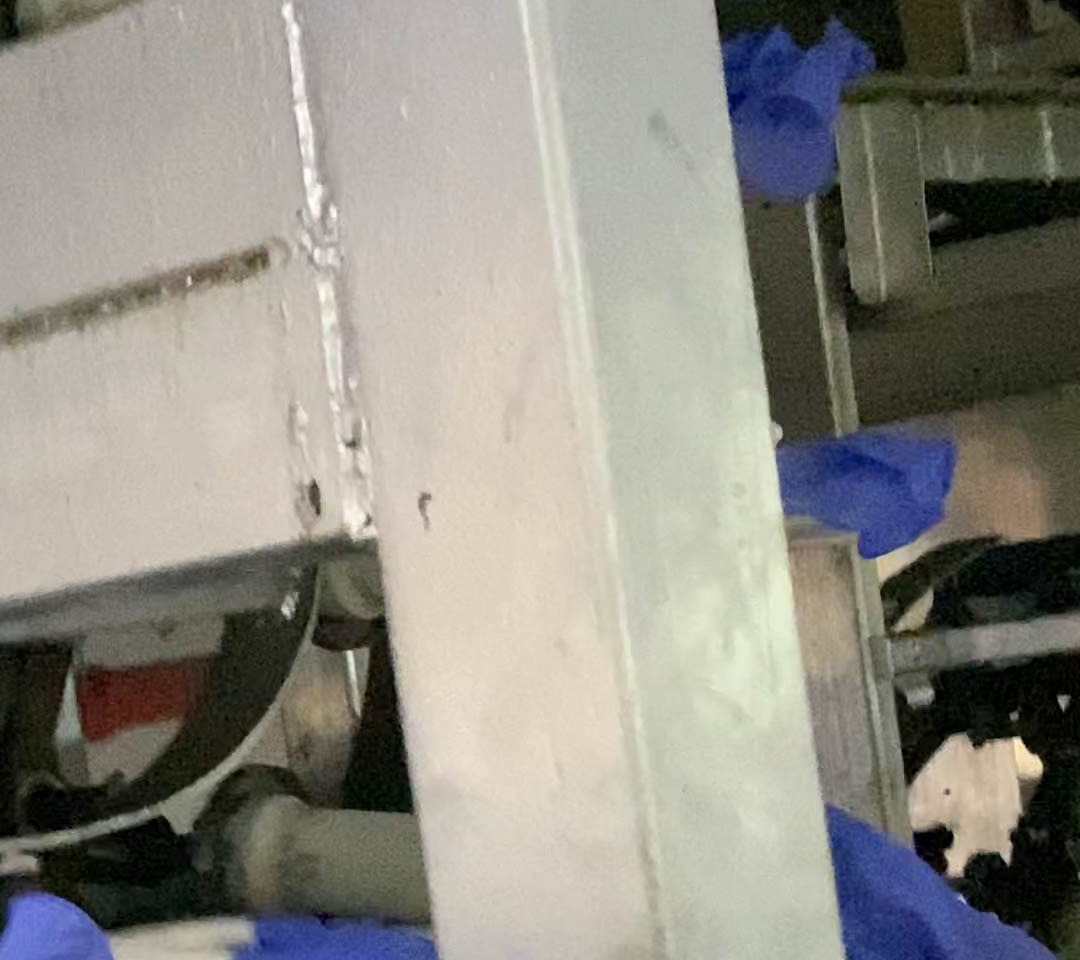glove: (717, 10, 874, 210), (769, 425, 959, 558)
